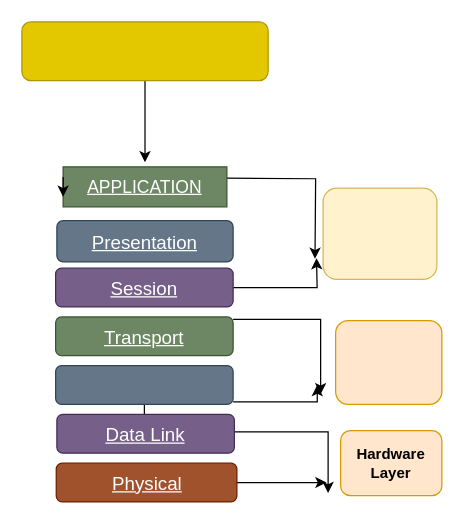
Image size: 464x525. Some labels were removed from this diagram. Each missing label, with the box of its shape:
Middle Layer: (334, 319, 442, 404)
Network: (54, 364, 233, 404)
OSI MODEL: (21, 21, 268, 81)
Software Layer: (322, 187, 437, 279)
